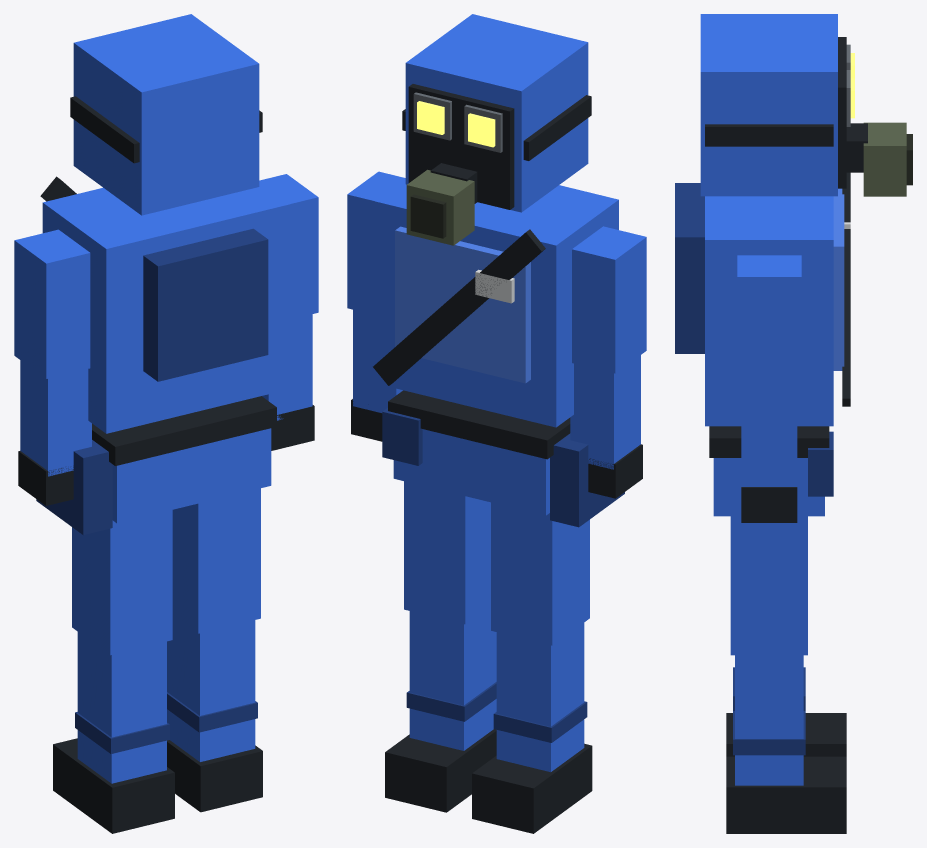
The model's file is gas_mask_storm_blue.glb.
3 views of the same model, side by side, from view 1: azimuth 30°, elevation 25°; view 2: azimuth 150°, elevation 25°; view 3: azimuth 270°, elevation 25° (orthographic). The views are drawn at different scales.
Visible parts, largest first — view 1: Merged4, Merged, Merged7, Merged5, Merged6, _MeshInstance3D_1815, _MeshInstance3D_1826, _MeshInstance3D_1810, Merged2, _MeshInstance3D_1821, Merged3; view 2: Merged4, Merged, Merged7, Merged5, Merged6, _MeshInstance3D_1815, _MeshInstance3D_1826, _MeshInstance3D_1810, Merged2, _MeshInstance3D_1821, Merged3; view 3: Merged, Merged4, Merged6, _MeshInstance3D_1826, _MeshInstance3D_1821, Merged3, Merged7, Merged5.
Part boxes in pixels (x1,y1,x2,y2): Merged4: (40, 176, 290, 433); Merged: (70, 14, 262, 215); Merged7: (36, 396, 276, 534); Merged5: (53, 632, 174, 833); Merged6: (167, 615, 262, 812); _MeshInstance3D_1815: (72, 510, 172, 655); _MeshInstance3D_1826: (172, 488, 260, 633); _MeshInstance3D_1810: (14, 229, 90, 378); Merged2: (18, 360, 91, 505); _MeshInstance3D_1821: (259, 174, 318, 319); Merged3: (262, 314, 314, 450); Merged4: (373, 179, 618, 427); Merged: (402, 14, 591, 245); Merged7: (382, 390, 624, 527); Merged5: (472, 623, 592, 833); Merged6: (385, 606, 496, 812); _MeshInstance3D_1815: (491, 502, 589, 645); _MeshInstance3D_1826: (404, 481, 490, 624); _MeshInstance3D_1810: (572, 226, 646, 373); Merged2: (570, 355, 642, 498); _MeshInstance3D_1821: (347, 171, 405, 314); Merged3: (351, 309, 402, 441); Merged: (700, 14, 912, 196); Merged4: (675, 172, 850, 426); Merged6: (726, 655, 846, 833); _MeshInstance3D_1826: (730, 516, 807, 655); _MeshInstance3D_1821: (737, 255, 801, 393); Merged3: (741, 393, 797, 522); Merged7: (709, 426, 833, 516); Merged5: (726, 667, 846, 756).
Size of the model in its own units: 0.74 by 1.94 by 0.555.
